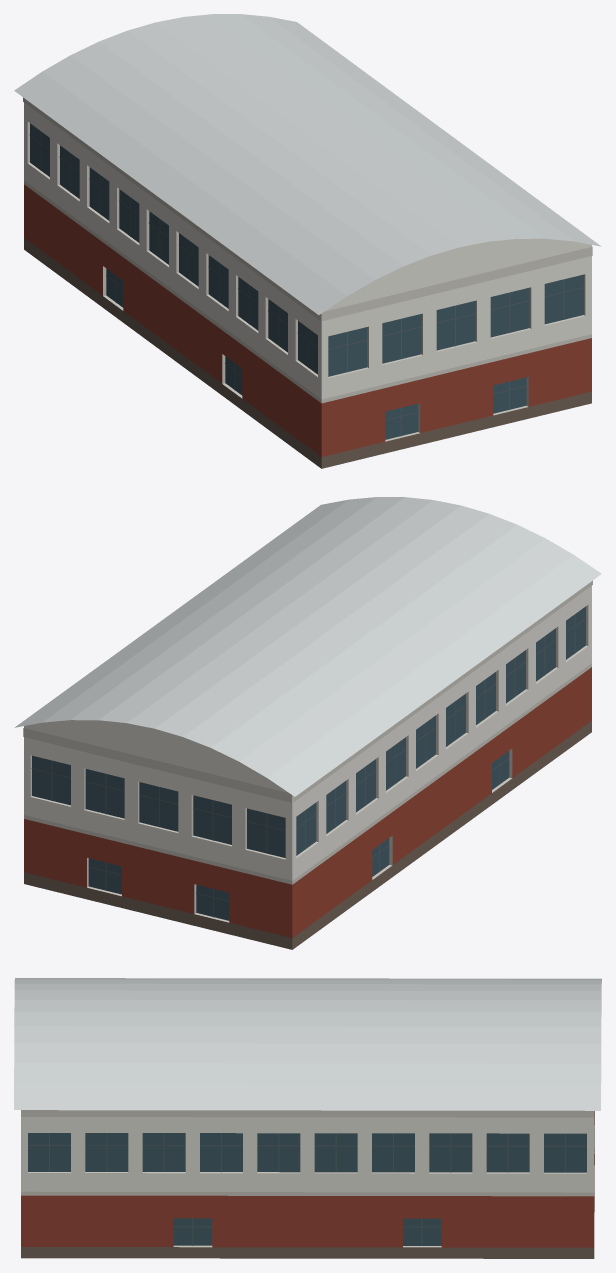
The picture shows the model from 3 angles, top to bottom: view 1: azimuth 30°, elevation 25°; view 2: azimuth 150°, elevation 25°; view 3: azimuth 270°, elevation 25°; orthographic projection. The views are drawn at different scales.
Visible parts, largest first — view 1: hall2__roof-metal, hall2__wall-plaster, hall2__brick, hall2__glass, hall2__trim-concrete, hall2__base-stone, hall2__frame; view 2: hall2__roof-metal, hall2__wall-plaster, hall2__brick, hall2__glass, hall2__trim-concrete, hall2__base-stone, hall2__frame; view 3: hall2__roof-metal, hall2__brick, hall2__wall-plaster, hall2__glass, hall2__trim-concrete, hall2__base-stone, hall2__frame.
Part boxes in pixels (<box>): hall2__roof-metal: <box>14,14,601,314</box>; hall2__wall-plaster: <box>24,102,591,399</box>; hall2__brick: <box>24,184,591,456</box>; hall2__glass: <box>30,123,583,439</box>; hall2__trim-concrete: <box>23,97,592,441</box>; hall2__base-stone: <box>24,238,591,468</box>; hall2__frame: <box>29,131,583,436</box>; hall2__roof-metal: <box>14,497,601,796</box>; hall2__wall-plaster: <box>24,586,591,880</box>; hall2__brick: <box>24,667,591,938</box>; hall2__glass: <box>32,606,585,920</box>; hall2__trim-concrete: <box>23,580,592,922</box>; hall2__base-stone: <box>24,721,591,949</box>; hall2__frame: <box>31,614,586,917</box>; hall2__roof-metal: <box>14,978,601,1110</box>; hall2__brick: <box>21,1111,594,1247</box>; hall2__wall-plaster: <box>21,1117,594,1192</box>; hall2__glass: <box>28,1133,586,1245</box>; hall2__trim-concrete: <box>21,1110,594,1247</box>; hall2__base-stone: <box>21,1154,594,1258</box>; hall2__frame: <box>28,1133,586,1245</box>.
Size of the model in its own units: 22.72 by 14.64 by 42.51.
